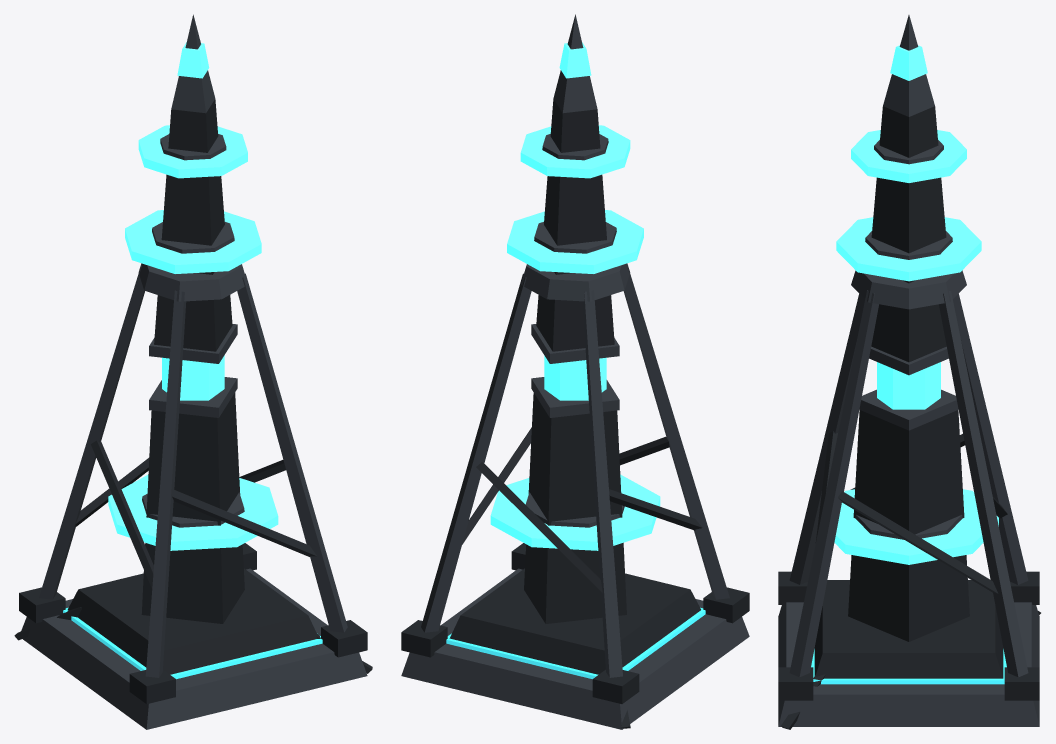
Rendered from network_pylon.glb.
3 views of the same model, side by side, from view 1: azimuth 30°, elevation 25°; view 2: azimuth 150°, elevation 25°; view 3: azimuth 270°, elevation 25° (orthographic). The views are drawn at different scales.
Visible parts, largest first — view 1: network_pylon_mesh; view 2: network_pylon_mesh; view 3: network_pylon_mesh.
Part boxes in pixels (box(x1,y1,x2,y2)): network_pylon_mesh: box(14, 14, 372, 729); network_pylon_mesh: box(401, 14, 749, 729); network_pylon_mesh: box(778, 15, 1040, 729).
Size of the model in its own units: 1.94 by 5 by 1.81.
